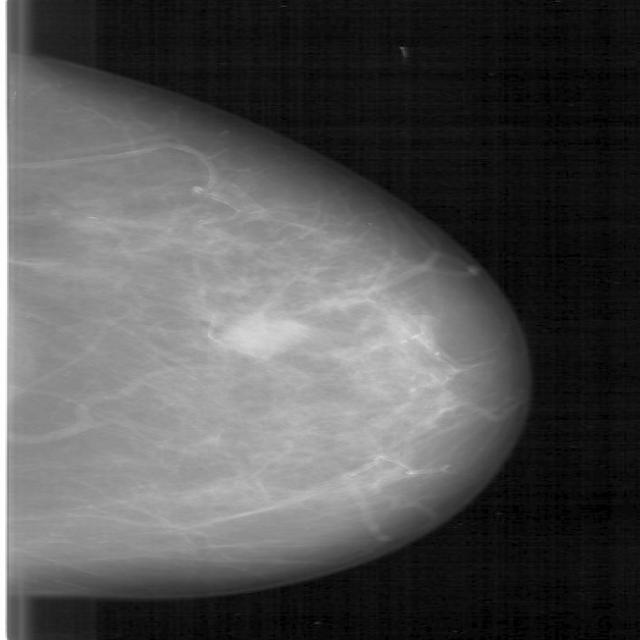tumour: (218, 312, 306, 357)
